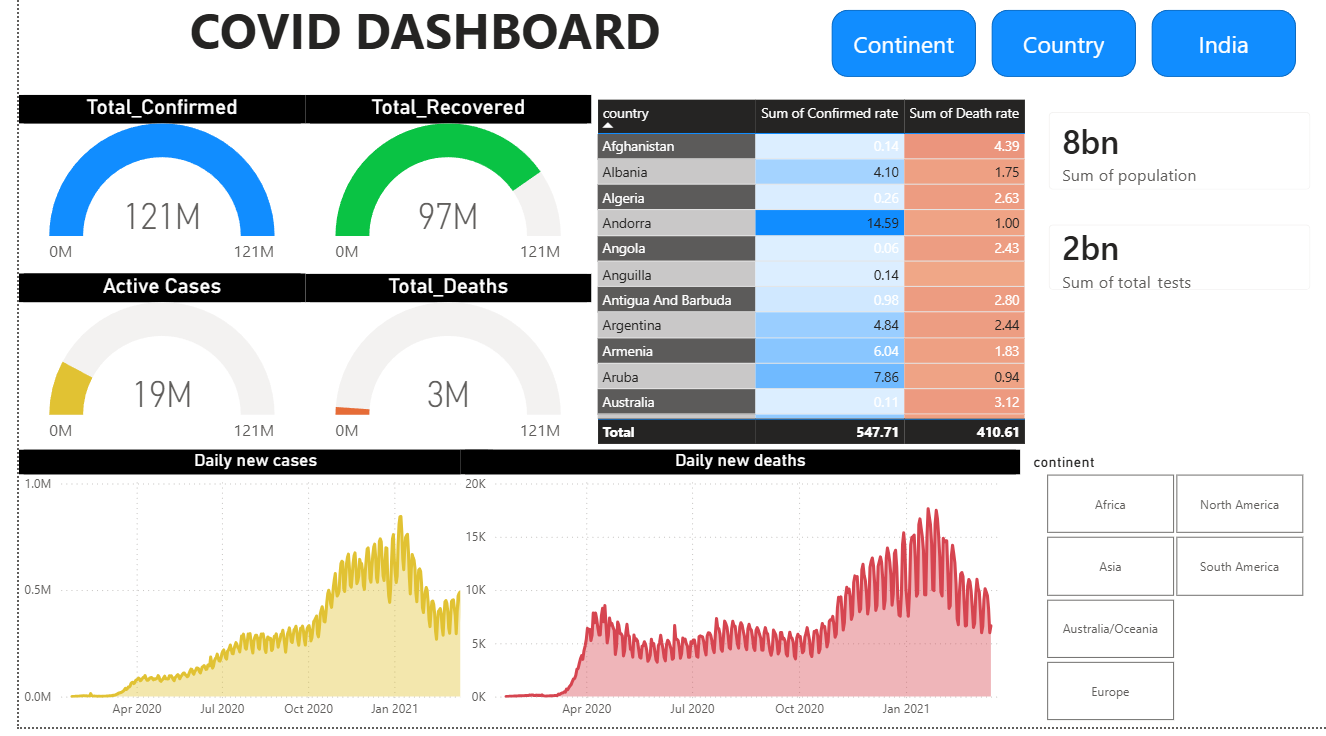

This screenshot's page, from the dashboard's own definition file:
{"tool":"powerbi","page":{"name":"summary_data","canvas":[1280,720],"ordinal":0},"visuals":[{"type":"gauge","title":" Total_Confirmed ","fields":{"Y":["Sum(summary data.total_confirmed)"],"MaxValue":["Sum(summary data.total_confirmed)"]},"box":[0,101.7,280,175],"z":0},{"type":"gauge","title":" Total_Deaths","fields":{"MaxValue":["Sum(summary data.total_confirmed)"],"Y":["Sum(summary data.total_deaths)"]},"box":[280,276.7,280,175],"z":1000},{"type":"gauge","title":" Total_Recovered","fields":{"MaxValue":["Sum(summary data.total_confirmed)"],"Y":["Sum(summary data.total_recovered)"]},"box":[280,101.7,280,175],"z":2000},{"type":"gauge","title":"Active Cases","fields":{"MaxValue":["Sum(summary data.total_confirmed)"],"Y":["Sum(summary data.active_cases)"]},"box":[0,276.7,280,175],"z":3000},{"type":"tableEx","fields":{"Values":["summary data.country","Sum(summary data.Confirmed rate)","Sum(summary data.Death rate)"]},"box":[560,101.7,565,346.7],"z":4000},{"type":"areaChart","title":"Daily new cases","fields":{"Y":["Sum(daily data.daily_new_cases)"],"Category":["daily data.date"]},"box":[0,448.3,463.3,271.7],"z":5000},{"type":"areaChart","title":"Daily new deaths","fields":{"Category":["daily data.date"],"Y":["Sum(daily data.daily_new_deaths)"]},"box":[431.7,448.3,548.3,271.7],"z":6000},{"type":"cardVisual","fields":{"Data":["Sum(summary data.population)"]},"box":[990,101.7,290,110],"z":7000},{"type":"cardVisual","fields":{"Data":["Sum(summary data.total_tests)"]},"box":[990,211.7,290,98.3],"z":8000},{"type":"slicer","fields":{"Values":["summary data.continent"]},"box":[979.5,447.6,300.8,272.7],"z":9000},{"type":"textbox","box":[0,0,794.5,101.5],"z":10000},{"type":"shape","box":[794.5,17.8,141.3,65.9],"z":11000},{"type":"shape","box":[950.9,17.8,141.3,65.9],"z":12000},{"type":"shape","box":[1107.4,17.8,141.3,65.9],"z":13000}]}

Visuals, with their boxes in screenshot pixels (x1, y1, x2, y2), scaled from the page's 1280x720 canvas onto the 1326x736 screenshot:
" Total_Confirmed " gauge: 0, 104, 290, 283
" Total_Deaths" gauge: 290, 283, 580, 462
" Total_Recovered" gauge: 290, 104, 580, 283
"Active Cases" gauge: 0, 283, 290, 462
tableEx - summary data.country x Sum(summary data.Confirmed rate): 580, 104, 1165, 458
"Daily new cases" areaChart: 0, 458, 480, 735
"Daily new deaths" areaChart: 447, 458, 1015, 735
cardVisual - Sum(summary data.population): 1026, 104, 1325, 216
cardVisual - Sum(summary data.total_tests): 1026, 216, 1325, 317
slicer - summary data.continent: 1015, 458, 1325, 735
textbox: 0, 0, 823, 104
shape: 823, 18, 969, 86
shape: 985, 18, 1131, 86
shape: 1147, 18, 1294, 86
